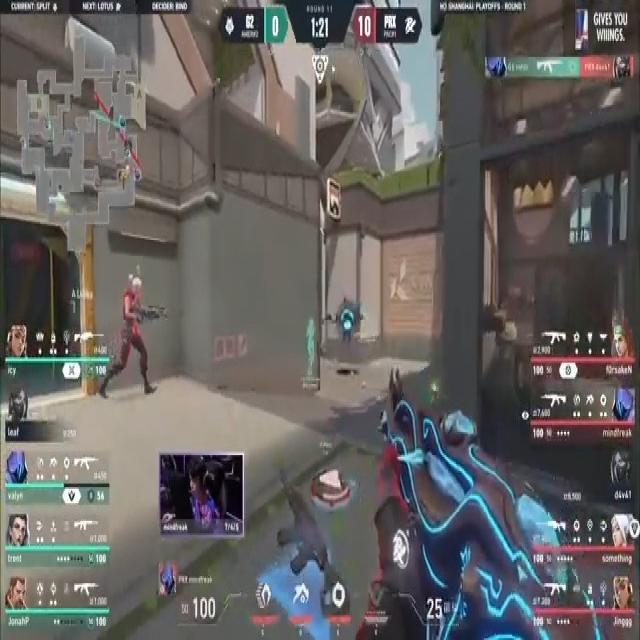ally behind wall: (304, 311, 319, 379)
enemy: (105, 270, 161, 401)
